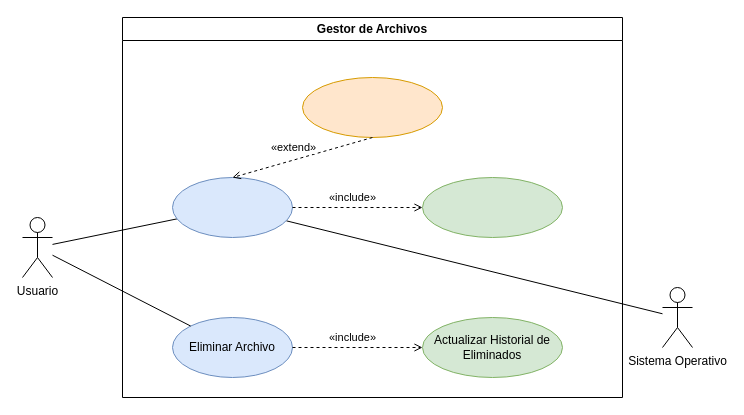
This 744x415 diagram has some shape labels left out. Here are the shapes that lost their labels. From the top down, the box of each, then its label:
(302, 76, 442, 138): Notificar Falta de Espacio
(172, 176, 292, 238): Crear Archivo
(422, 176, 562, 238): Verificar Espacio en Disco
